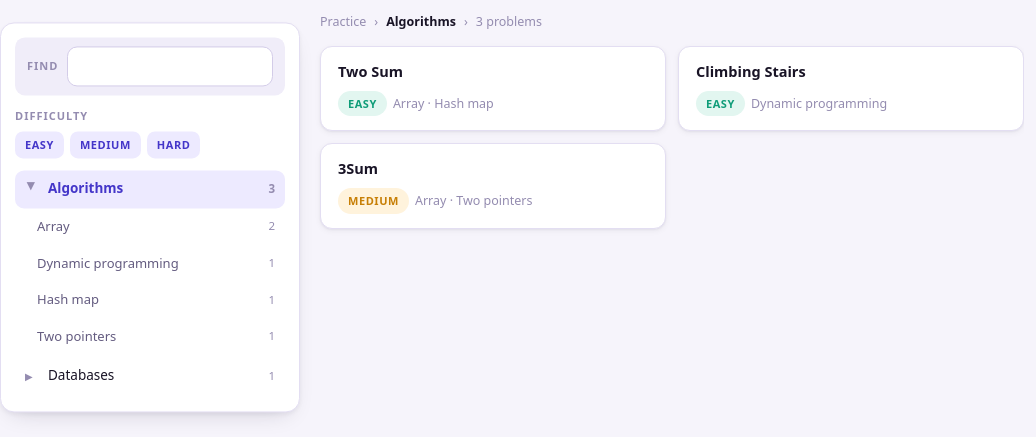
Scenario: TreeBrowser (issue #90) › drilling into a pattern then toggling a difficulty filter never resets the pattern view
Click the button "Array 2": (53, 226) top-left (15, 208), bottom-right (285, 245)
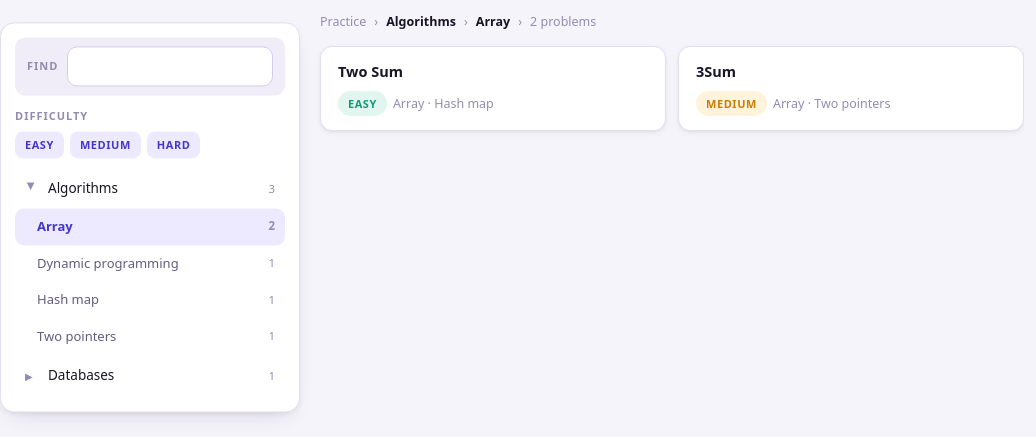
Expected: the button "Two Sum Easy Array · Hash map" is shown, top-left (320, 46), bottom-right (666, 131)
Expected: the button "Climbing Stairs" is gone
Click the button "Hard": (174, 145) top-left (147, 131), bottom-right (200, 159)
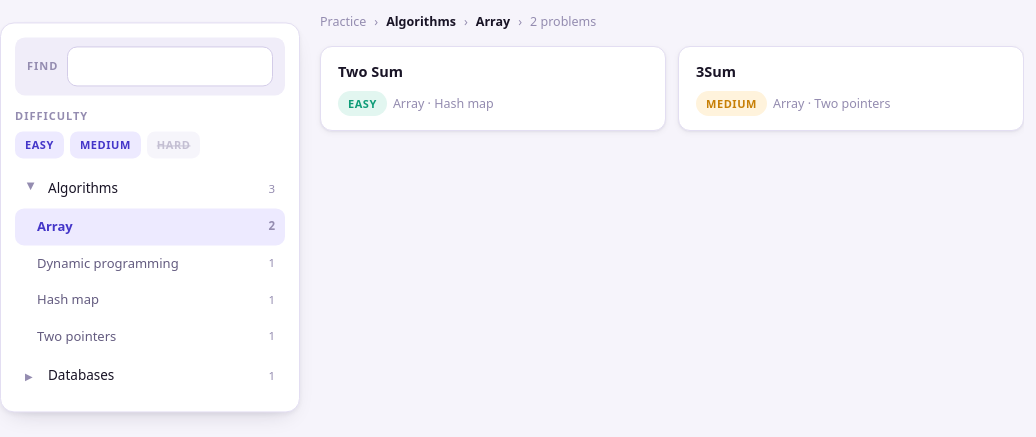
Expected: the button "Two Sum Easy Array · Hash map" is shown, top-left (320, 46), bottom-right (666, 131)
Expected: the button "3Sum Medium Array · Two pointers" is shown, top-left (678, 46), bottom-right (1024, 131)
Click the button "Medium": (105, 145) top-left (70, 131), bottom-right (141, 159)
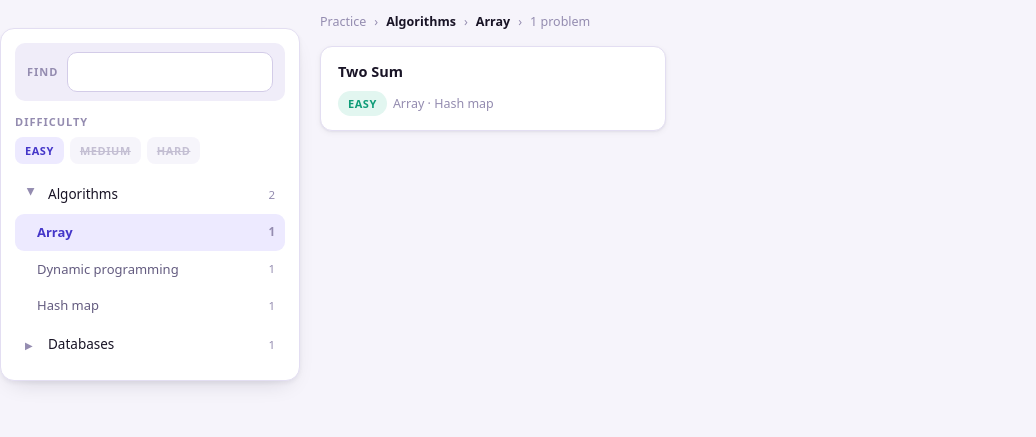
Expected: the button "Two Sum Easy Array · Hash map" is shown, top-left (320, 46), bottom-right (666, 131)
Expected: the button "3Sum" is gone
